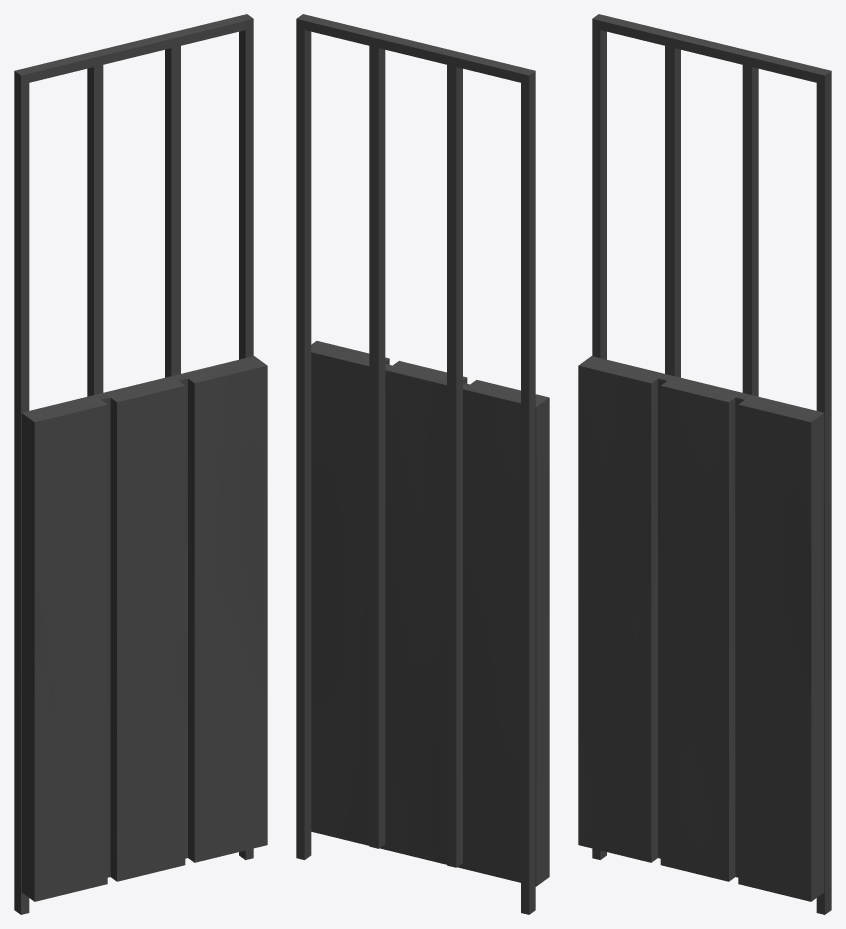
Rendered from outside wall Enter.fbx.
3 views of the same model, side by side, from view 1: azimuth 30°, elevation 25°; view 2: azimuth 150°, elevation 25°; view 3: azimuth 330°, elevation 25° (orthographic).
Parts seen in each view (by area): view 1: Box001; view 2: Box001; view 3: Box001.
Boxes of the visible parts, left/top/right/bottom form: Box001: left=14, top=14, right=267, bottom=914; Box001: left=296, top=14, right=549, bottom=914; Box001: left=578, top=14, right=831, bottom=914.
Size of the model in its own units: 185 by 636 by 27.87.
